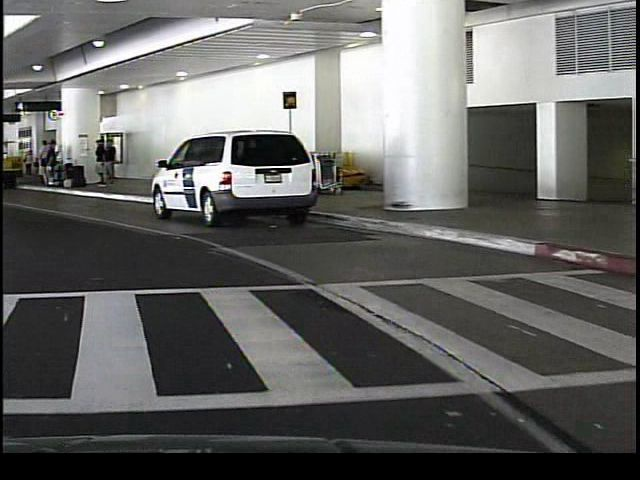person: (102, 138, 117, 187), (32, 136, 46, 188)
